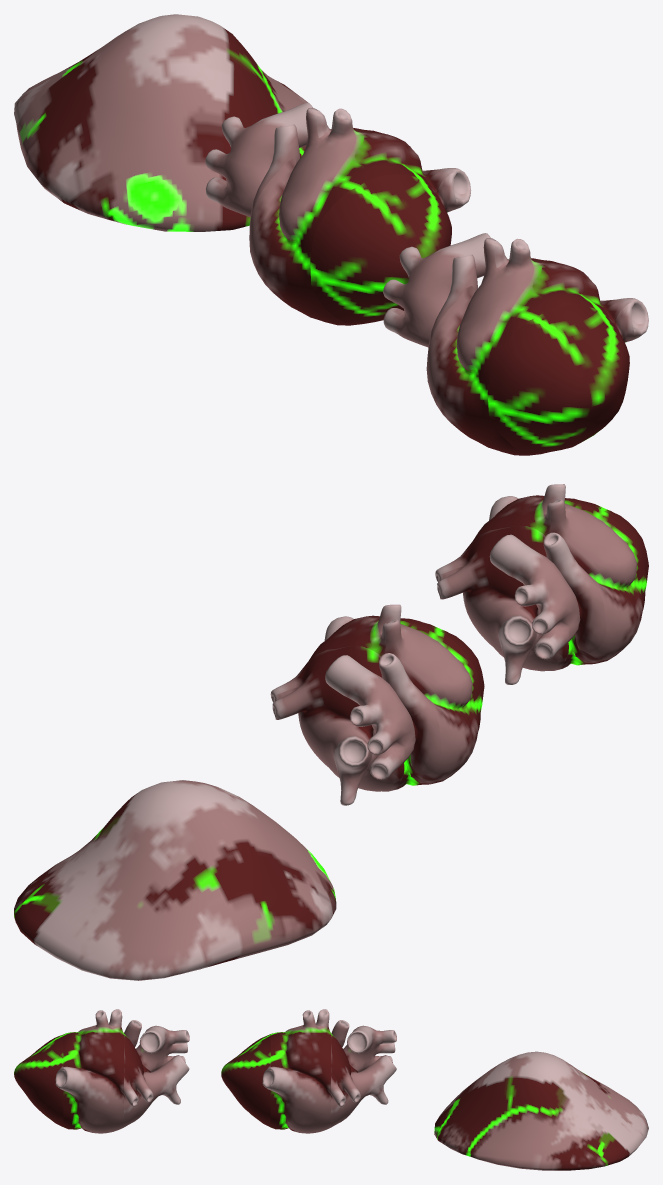
Rendered from SM_heart.fbx.
3 renders of one model, top to bottom at view 1: azimuth 30°, elevation 25°; view 2: azimuth 150°, elevation 25°; view 3: azimuth 270°, elevation 25°, orthographic. The views are drawn at different scales.
Parts seen in each view (by area): view 1: Heart_whole, Heart_mushed, Heart_slice02, Heart_slice01, Heart_slice03; view 2: Heart_mushed, Heart_whole, Heart_slice03, Heart_slice02; view 3: Heart_mushed, Heart_whole, Heart_slice02, Heart_slice03, Heart_slice01.
Part boxes in pixels (x1,y1,x2,y2): Heart_whole: (383, 233, 648, 455); Heart_mushed: (14, 14, 308, 231); Heart_slice02: (249, 107, 470, 325); Heart_slice01: (310, 172, 471, 323); Heart_slice03: (205, 102, 312, 236); Heart_mushed: (14, 780, 336, 980); Heart_whole: (435, 484, 648, 684); Heart_slice03: (270, 646, 441, 805); Heart_slice02: (300, 604, 481, 791); Heart_mushed: (434, 1051, 648, 1170); Heart_whole: (14, 1009, 189, 1133); Heart_slice02: (270, 1009, 330, 1133); Heart_slice03: (331, 1020, 396, 1127); Heart_slice01: (221, 1034, 270, 1127).
Size of the model in its own units: 50.98 by 35.01 by 170.
1 material, 1 textured.
